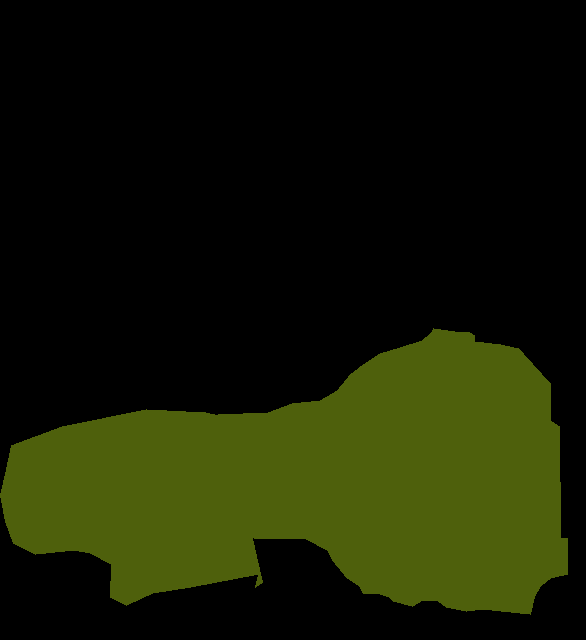Train: (218, 328, 568, 615), (0, 409, 262, 605)
